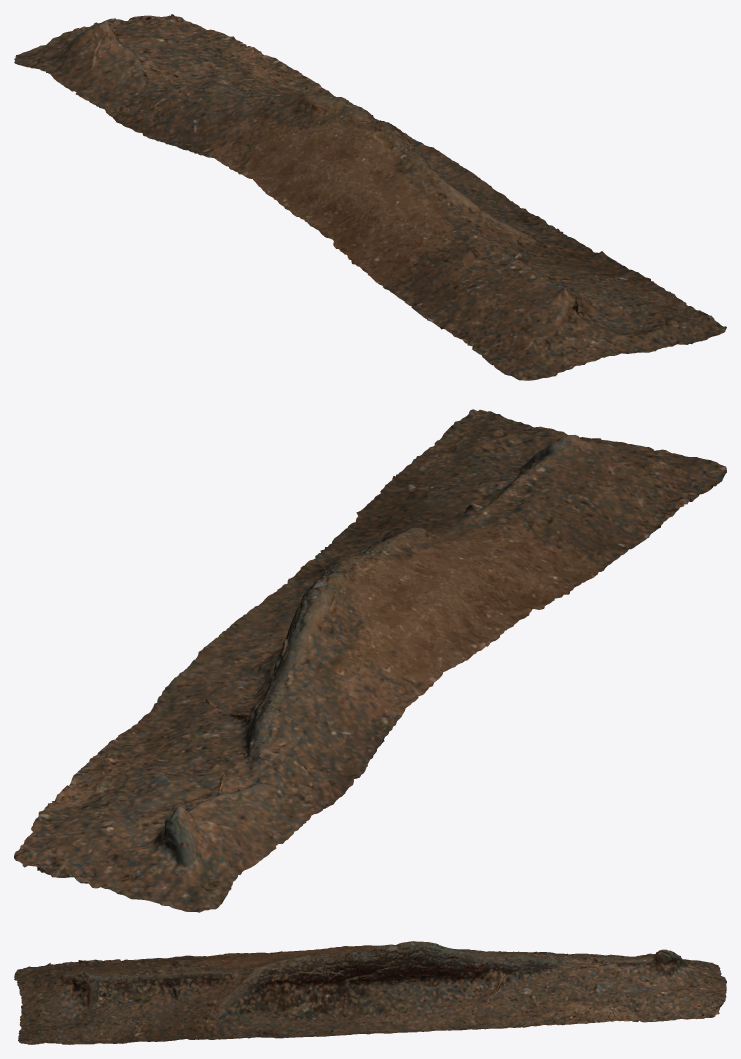
Rendered from single_root_1k.glb.
The picture shows the model from 3 angles, top to bottom: view 1: azimuth 30°, elevation 25°; view 2: azimuth 150°, elevation 25°; view 3: azimuth 270°, elevation 25°; orthographic projection. The views are drawn at different scales.
Visible parts, largest first — view 1: single_root; view 2: single_root; view 3: single_root.
Boxes of the visible parts, bbox=[...] form: single_root: bbox=[14, 14, 726, 380]; single_root: bbox=[14, 409, 726, 912]; single_root: bbox=[14, 941, 726, 1044].
Size of the model in its own units: 0.5552 by 0.178 by 1.84.
Materials: 1 (1 with a texture image).
